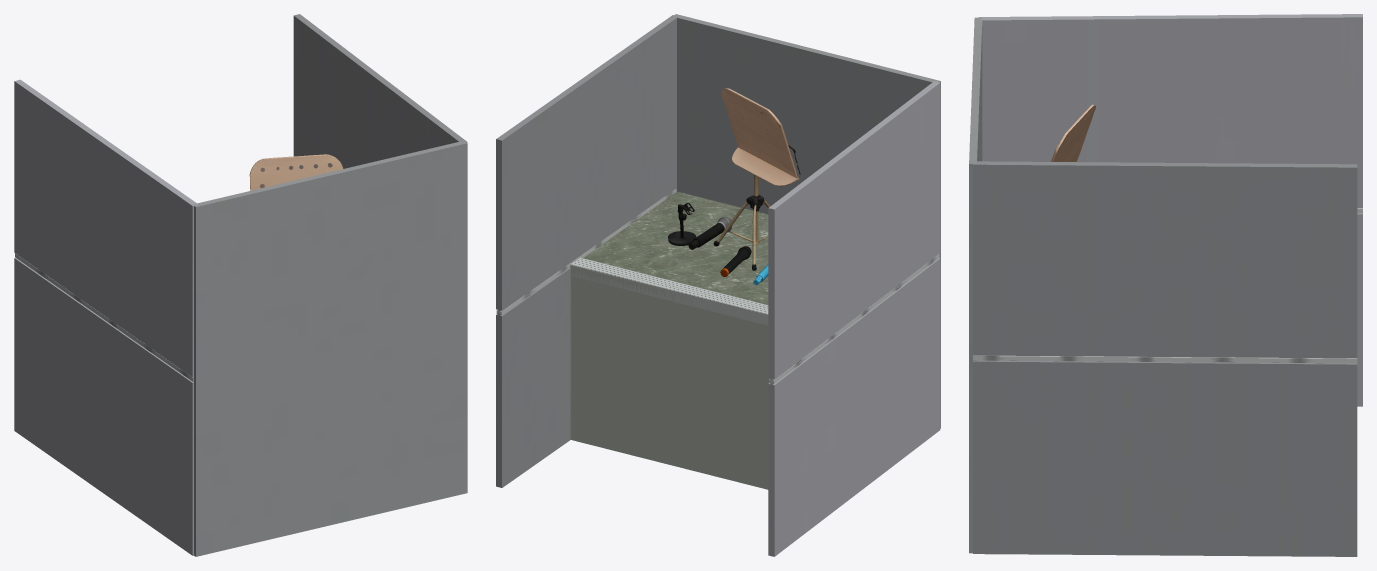
The model's file is ours.glb.
The picture shows the model from 3 angles, left to right: view 1: azimuth 30°, elevation 25°; view 2: azimuth 150°, elevation 25°; view 3: azimuth 270°, elevation 25°; orthographic projection. The views are drawn at different scales.
Visible parts, largest first — view 1: wall_0, wall_2, wall_1, obj_music_stand_0, wall_2_lower_rail; view 2: wall_2, wall_1, wall_3, wall_0, table_0, obj_music_stand_0, wall_3_top_frame, wall_2_lower_rail, wall_1_lower_rail, obj_microphone_stand_0; view 3: wall_1, wall_2, wall_0, wall_1_lower_rail, obj_music_stand_0.
Part boxes in pixels (x1,y1,x2,y2): wall_0: (192,141,467,556); wall_2: (14,79,198,555); wall_1: (293,14,467,168); obj_music_stand_0: (249,154,343,190); wall_2_lower_rail: (15,253,193,381); wall_2: (768,81,940,556); wall_1: (496,15,677,487); wall_3: (570,266,769,489); wall_0: (673,14,940,428); table_0: (583,191,768,304); obj_music_stand_0: (713,88,800,270); wall_3_top_frame: (570,257,768,325); wall_2_lower_rail: (769,254,939,384); wall_1_lower_rail: (496,188,676,315); obj_microphone_stand_0: (668,203,696,245); wall_1: (973,161,1357,556); wall_2: (978,14,1362,406); wall_0: (969,17,982,553); wall_1_lower_rail: (973,355,1357,363); obj_music_stand_0: (1050,104,1095,161).
Size of the model in its own units: 1.61 by 1.9 by 1.74.
19 materials, 18 textured.
